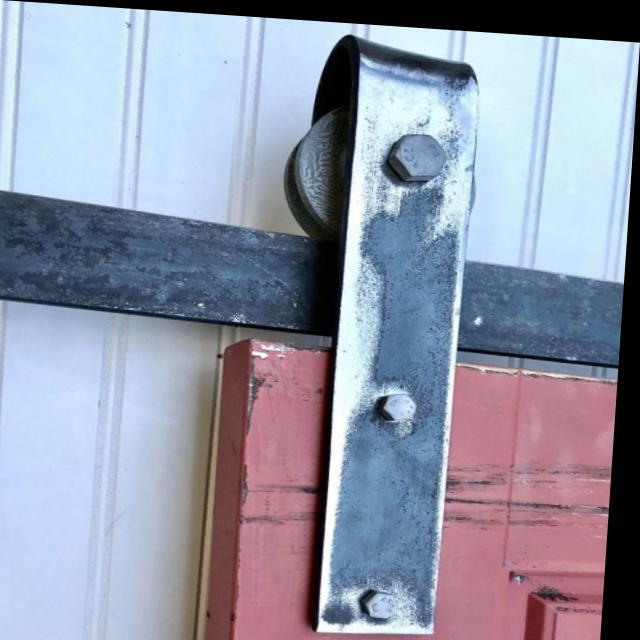Regular bolt: (390, 127, 450, 178), (386, 388, 423, 418), (372, 587, 409, 614)
